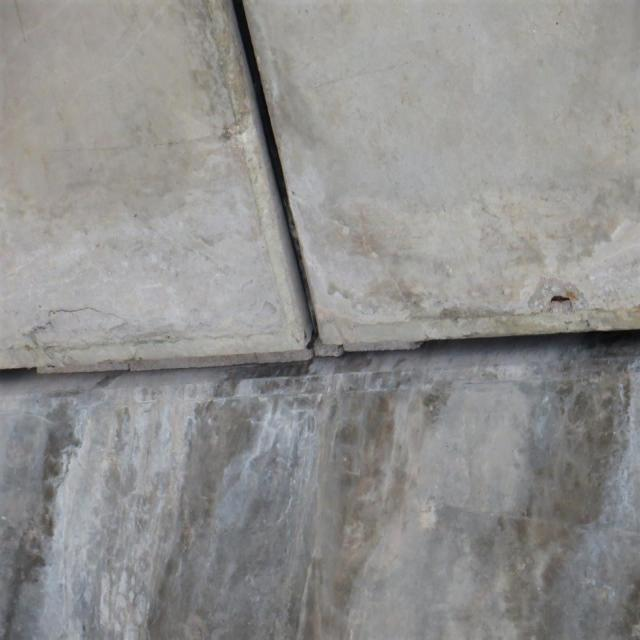Rebar: (529, 274, 587, 314)
